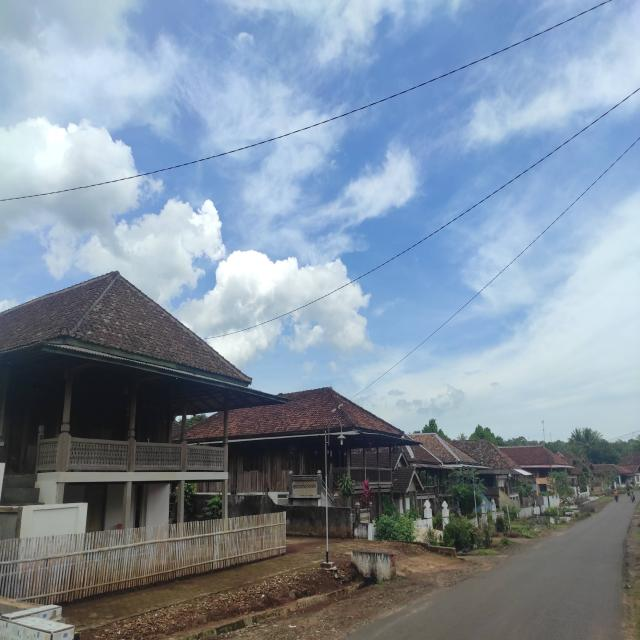Atap: (171, 386, 423, 448)
Kolom: (223, 407, 228, 444)
Ornamen: (38, 438, 59, 470)
Pintu: (83, 484, 107, 550)
Tangga: (0, 475, 45, 506)
